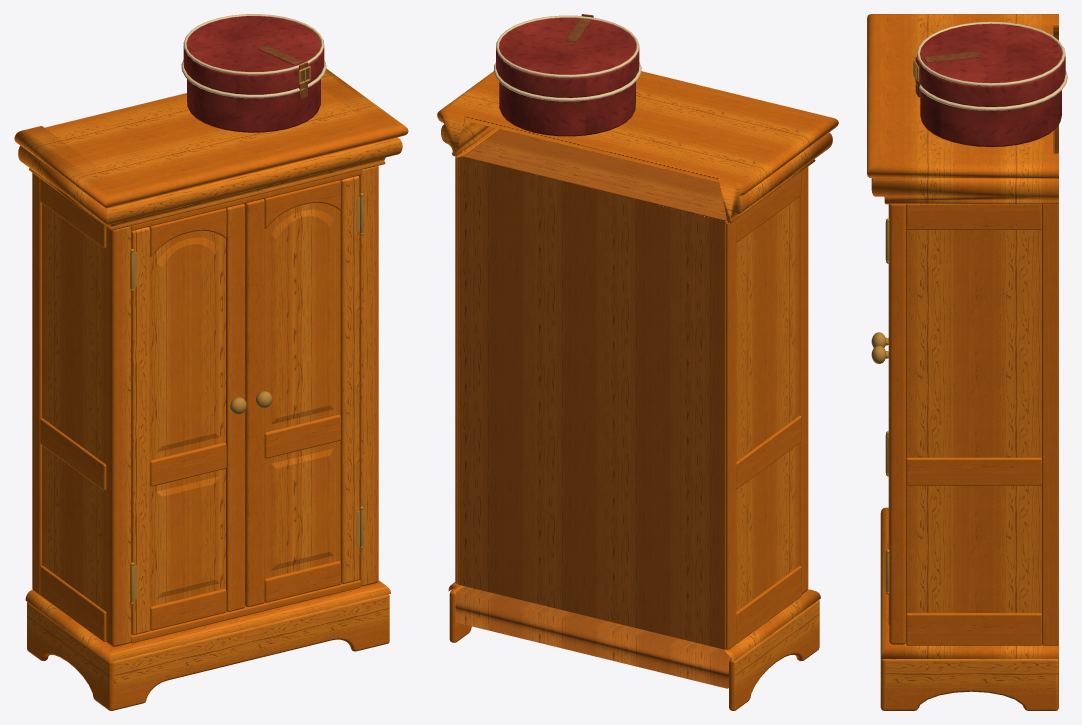
Rendered from wardrobe.glb.
3 views of the same model, side by side, from view 1: azimuth 30°, elevation 25°; view 2: azimuth 150°, elevation 25°; view 3: azimuth 270°, elevation 25° (orthographic). The views are drawn at different scales.
Visible parts, largest first — view 1: model, door_r, door_l; view 2: model; view 3: model, door_r.
Part boxes in pixels (x1,y1,x2,y2): model: (14, 14, 408, 710); door_r: (244, 175, 359, 606); door_l: (131, 203, 246, 634); model: (437, 14, 838, 710); model: (867, 14, 1067, 710); door_r: (871, 204, 889, 624).
Size of the model in its own units: 1.31 by 2.41 by 0.709.
Materials: 8 (6 with a texture image).
